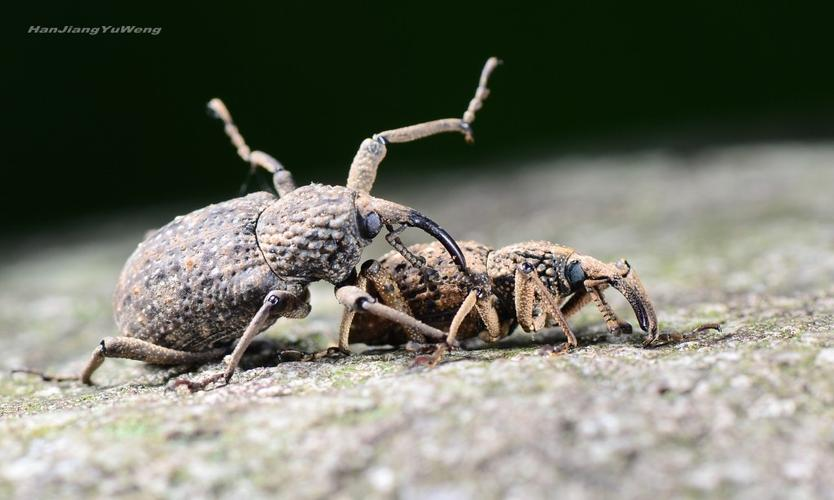Curculionidae: (13, 55, 497, 393), (276, 237, 722, 373)
